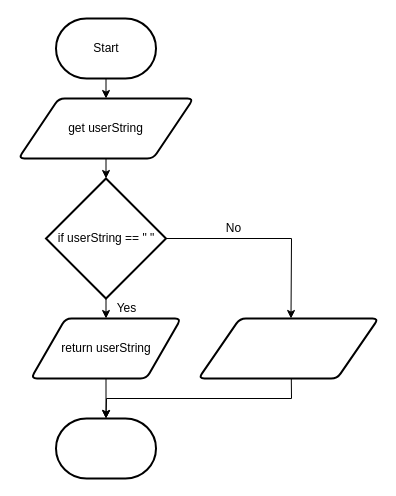
Some shapes in this 396 by 496 pixel diagram are drawn without their labels. Each missing label, with the box of its shape:
return reversedString (userString.slice(1)) + userString.slice(0, 1): (197, 317, 379, 379)
Stop: (54, 417, 156, 479)
